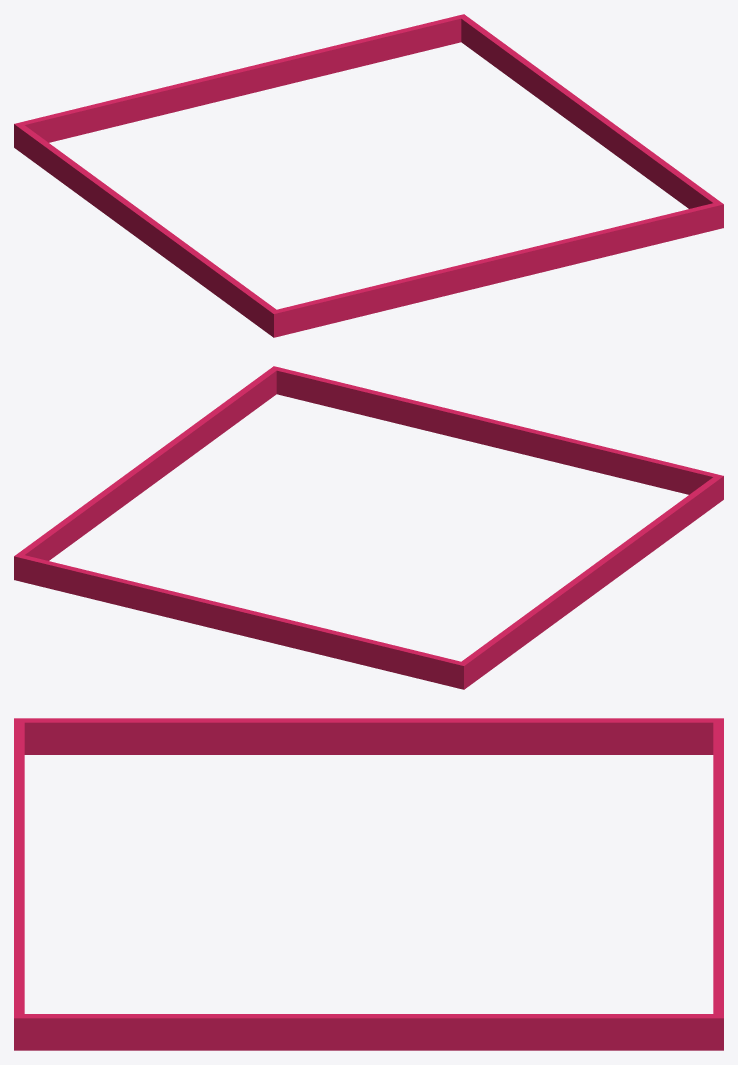
The model's file is BuildingOutline.fbx.
3 renders of one model, top to bottom at view 1: azimuth 30°, elevation 25°; view 2: azimuth 150°, elevation 25°; view 3: azimuth 270°, elevation 25°, orthographic. The views are drawn at different scales.
Parts seen in each view (by area): view 1: MergeOutline; view 2: MergeOutline; view 3: MergeOutline.
Part boxes in pixels (left/top/right/bottom): MergeOutline: left=14, top=14, right=723, bottom=337; MergeOutline: left=14, top=366, right=723, bottom=689; MergeOutline: left=14, top=718, right=723, bottom=1050.
Bounding box in the file's own units: 1200 × 60.38 × 1200.
